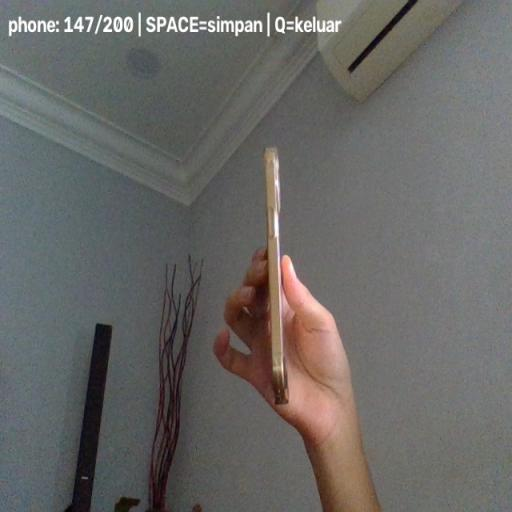Phone: (262, 147, 290, 404)
